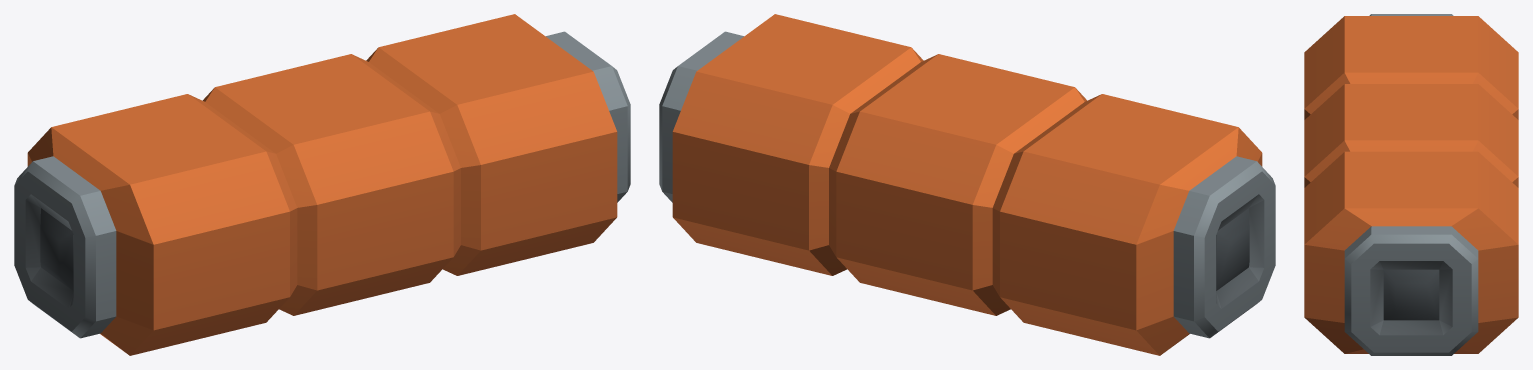
The model's file is tunnel_straight_B.glb.
3 views of the same model, side by side, from view 1: azimuth 30°, elevation 25°; view 2: azimuth 150°, elevation 25°; view 3: azimuth 270°, elevation 25° (orthographic). The views are drawn at different scales.
Visible parts, largest first — view 1: tunnel_straight_B; view 2: tunnel_straight_B; view 3: tunnel_straight_B.
Part boxes in pixels (bbox=[...]): tunnel_straight_B: bbox=[14, 14, 630, 355]; tunnel_straight_B: bbox=[659, 14, 1275, 355]; tunnel_straight_B: bbox=[1304, 14, 1518, 355].
Size of the model in its own units: 2 by 0.6 by 0.8.
1 material, 1 textured.
